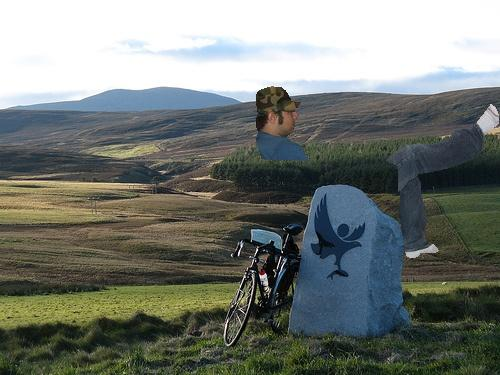tampered: (256, 87, 499, 258)
